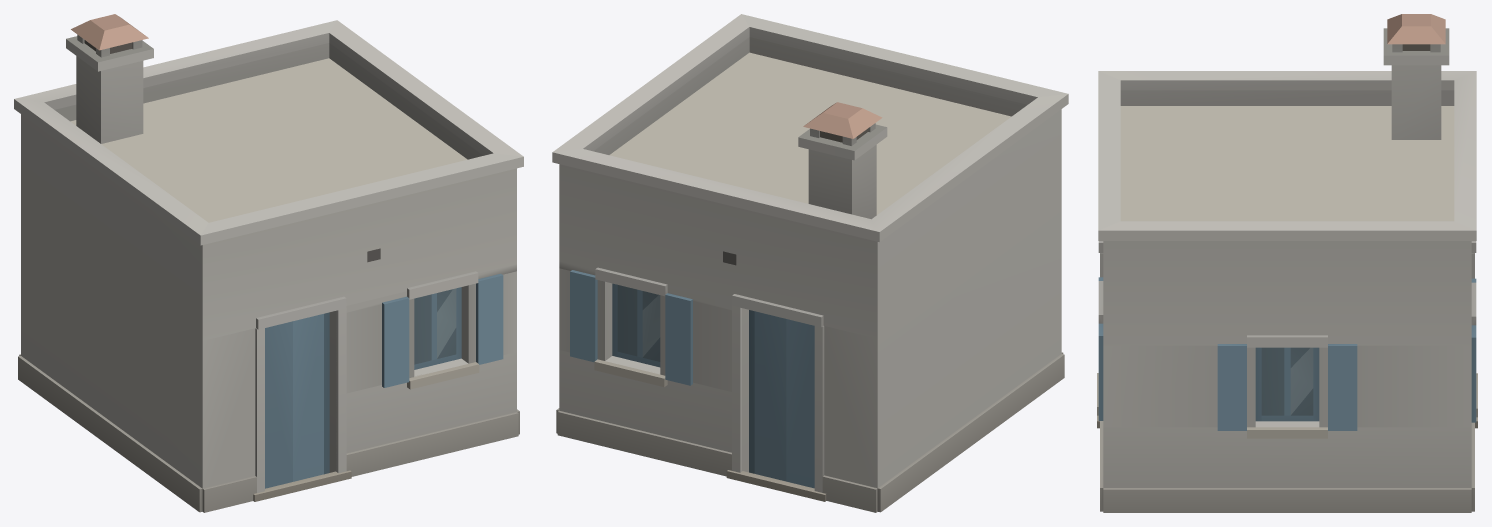
The picture shows the model from 3 angles, left to right: view 1: azimuth 30°, elevation 25°; view 2: azimuth 150°, elevation 25°; view 3: azimuth 270°, elevation 25°; orthographic projection.
Bounding box in the file's own units: 4.41 × 4.7 × 4.43.
